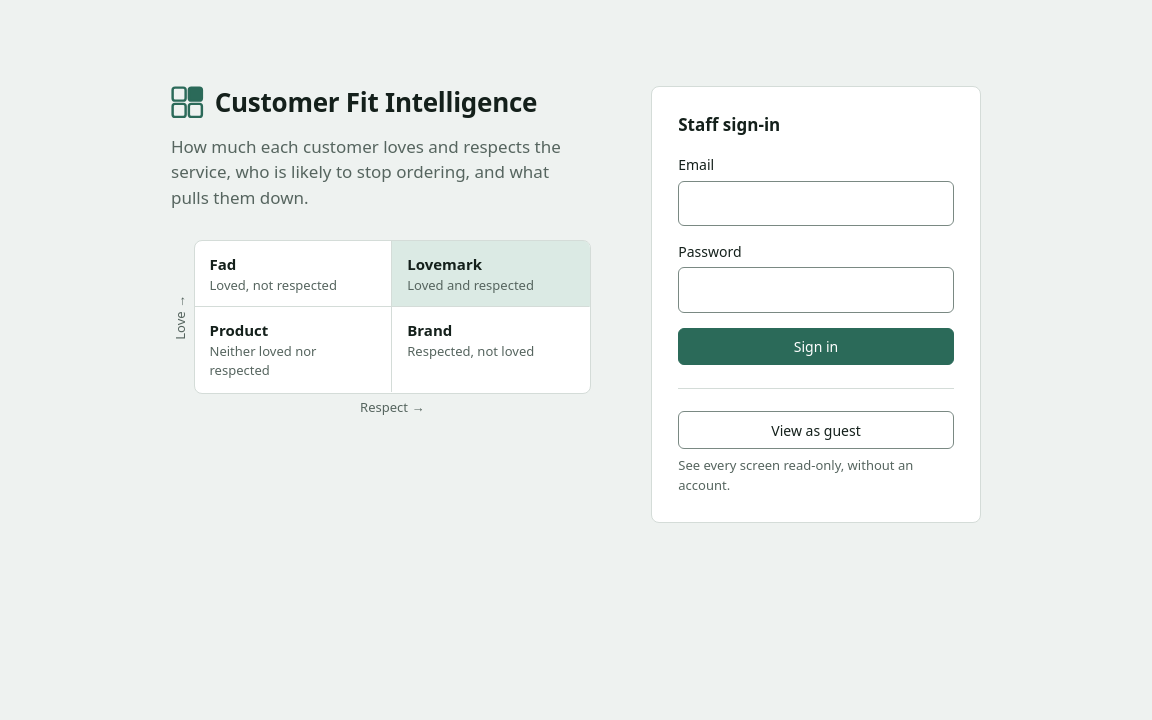
signing in opens the overview, with every screen in the nav
The width and height of the screenshot is (1152, 720).
Type "ana@example.com" into the field labelled "Email" at point(816, 203), box [678,181,954,226]
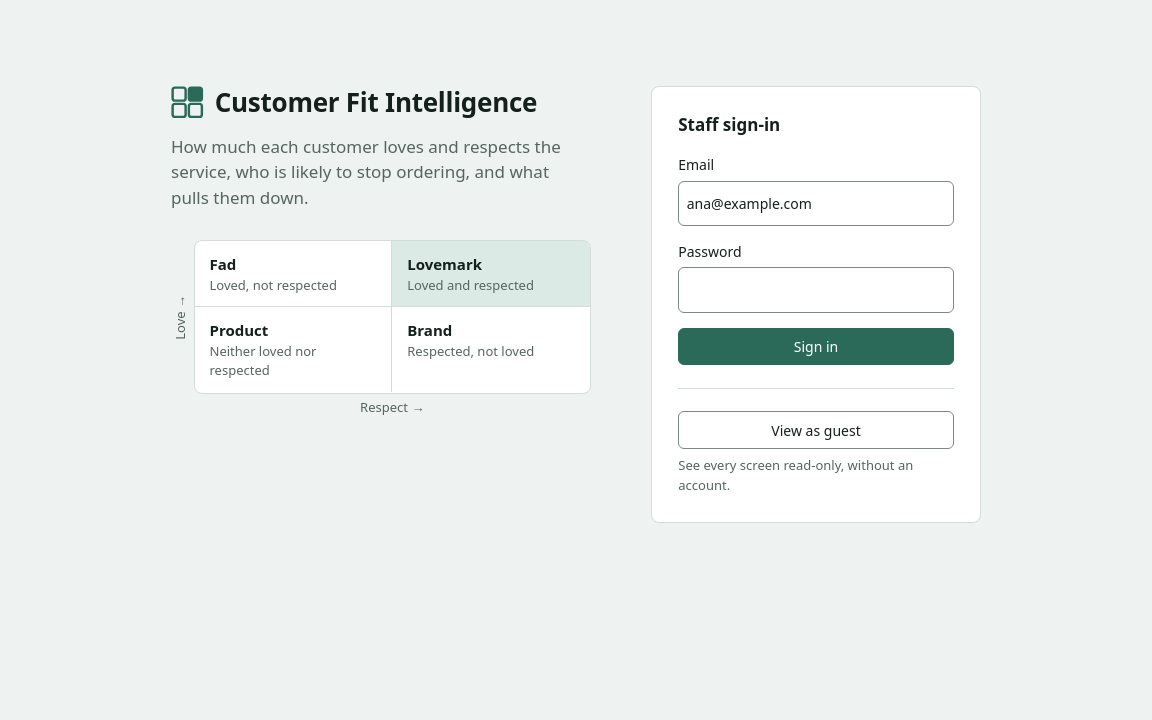
Type "right" into the password field labelled "Password" at point(816, 290), box [678,268,954,313]
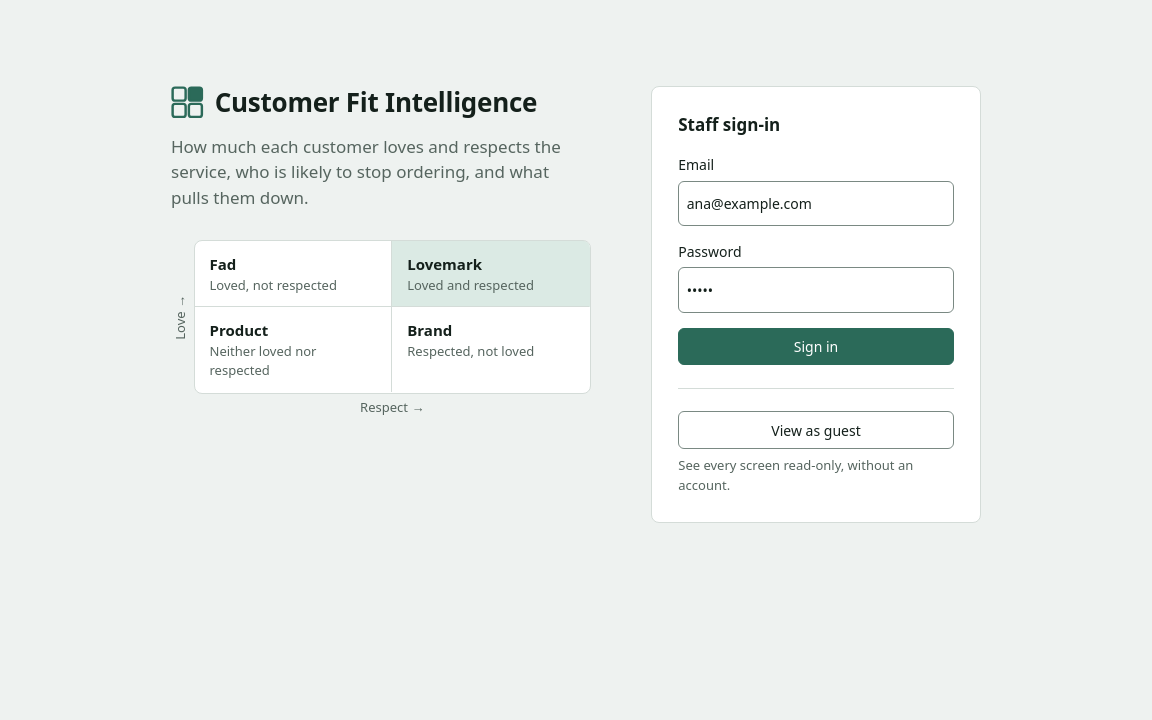
Click the button "Sign in" at point(816, 347), box [678,328,954,366]
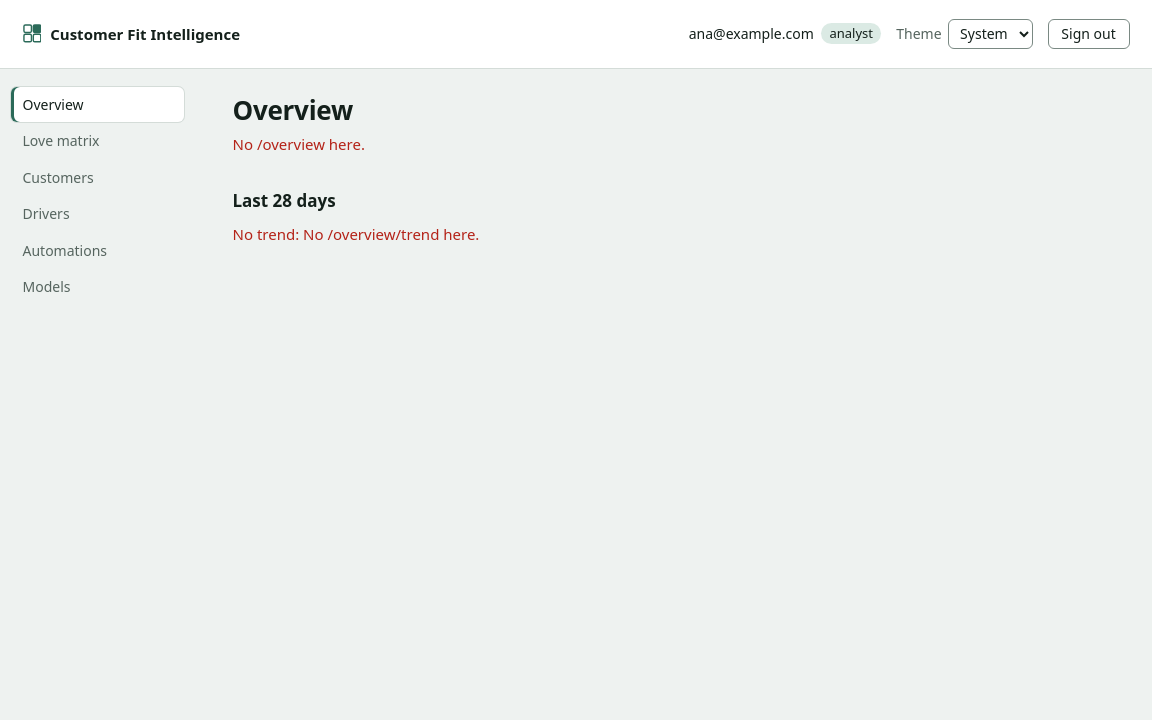
Result: the heading "Overview" is shown at [232,92,353,128]
Result: the links read "Overview", "Love matrix", "Customers", "Drivers", "Automations", "Models", in this order at [11,87,184,122]; [22,131,100,150]; [22,168,94,187]; [22,204,70,223]; [22,240,107,260]; [22,277,70,296]
Result: the header shows "ana@example.com analyst" at [0,0,1151,68]
